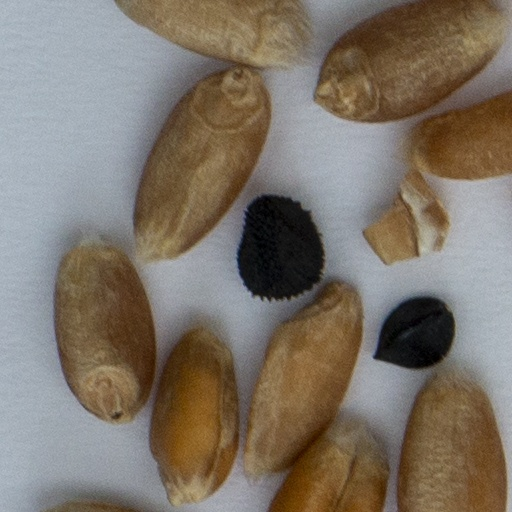Agrostemma-poly: (240, 198, 324, 299)
Fallopia-Convolvulus-poly: (376, 300, 451, 367)
Wheat-grain-damaged-poly: (364, 170, 448, 263)
